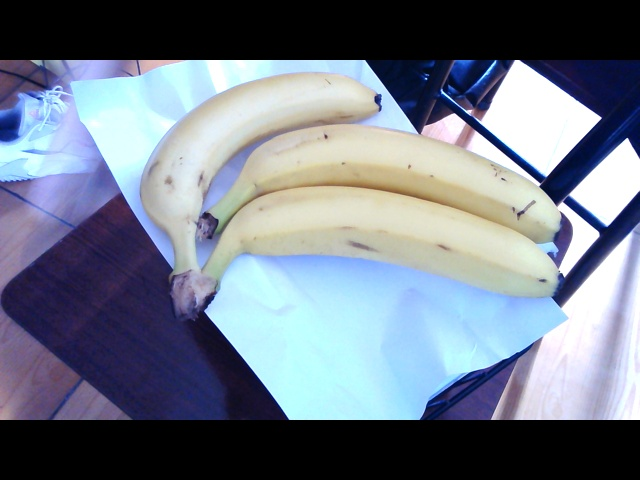banana: (142, 73, 562, 308)
